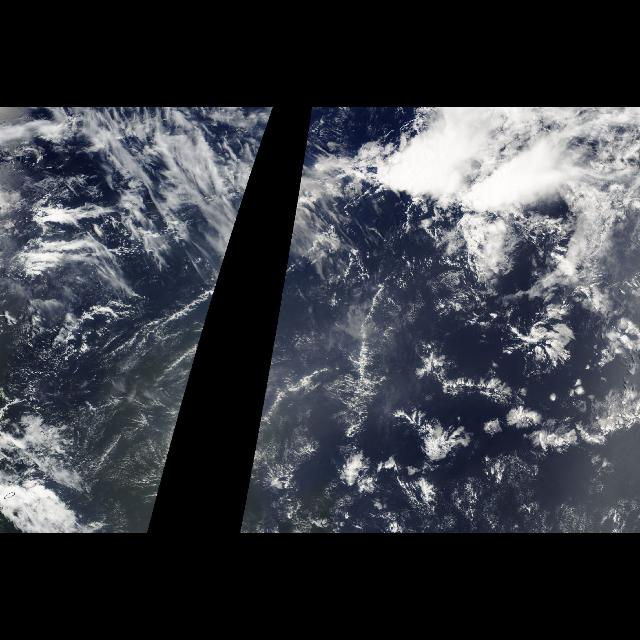Fish: (310, 287, 426, 439)
